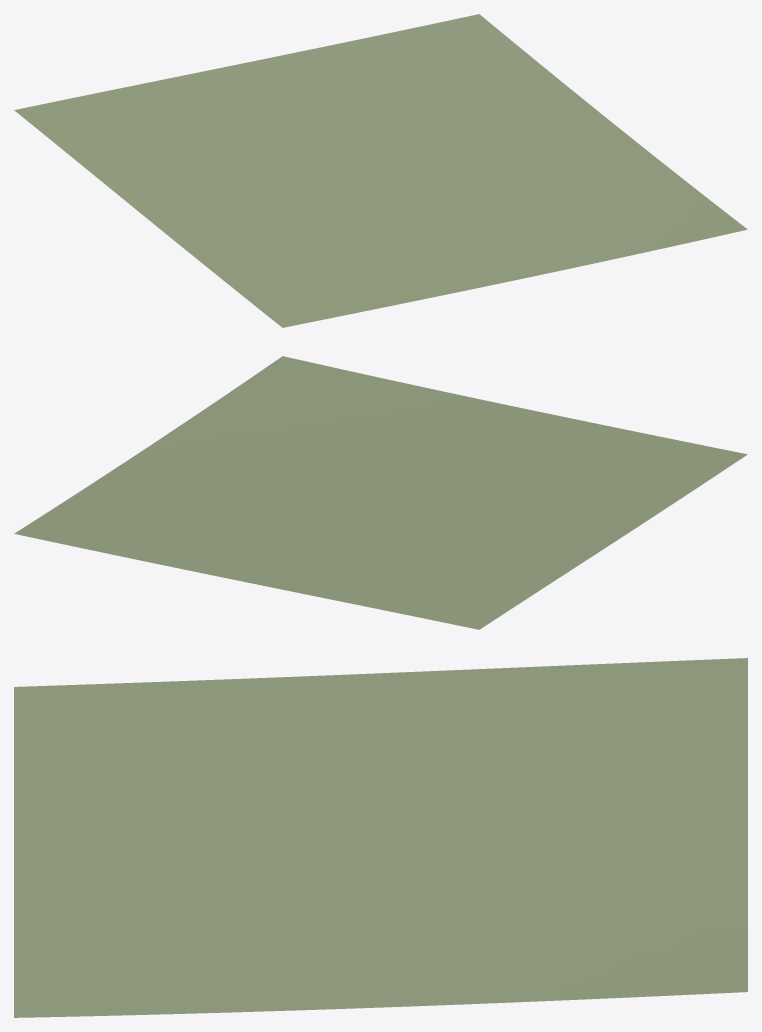
Rendered from desert-3-19.glb.
3 views of the same model, one above another, from view 1: azimuth 30°, elevation 25°; view 2: azimuth 150°, elevation 25°; view 3: azimuth 270°, elevation 25° (orthographic). The views are drawn at different scales.
Parts seen in each view (by area): view 1: desert-3-19; view 2: desert-3-19; view 3: desert-3-19.
Boxes of the visible parts, box(x1,y1,x2,y2) form: desert-3-19: box(14, 14, 747, 327); desert-3-19: box(14, 356, 747, 629); desert-3-19: box(14, 658, 747, 1017).
Bounding box in the file's own units: 512 × 38.22 × 512.
